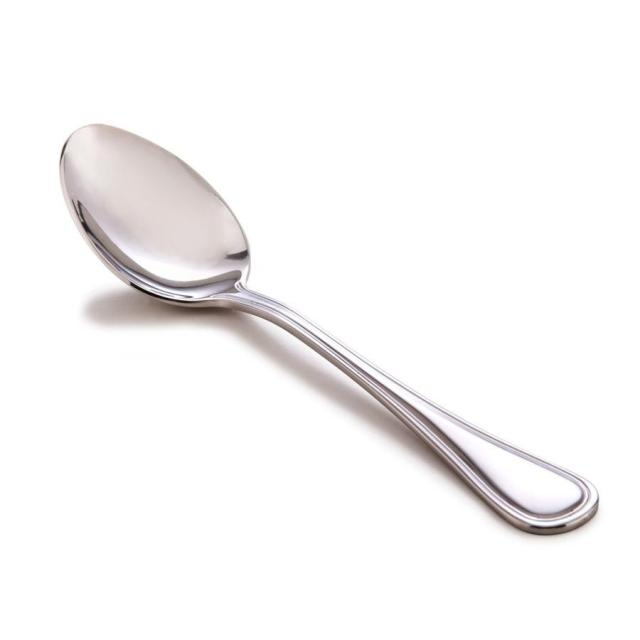spoon: (48, 110, 617, 534)
